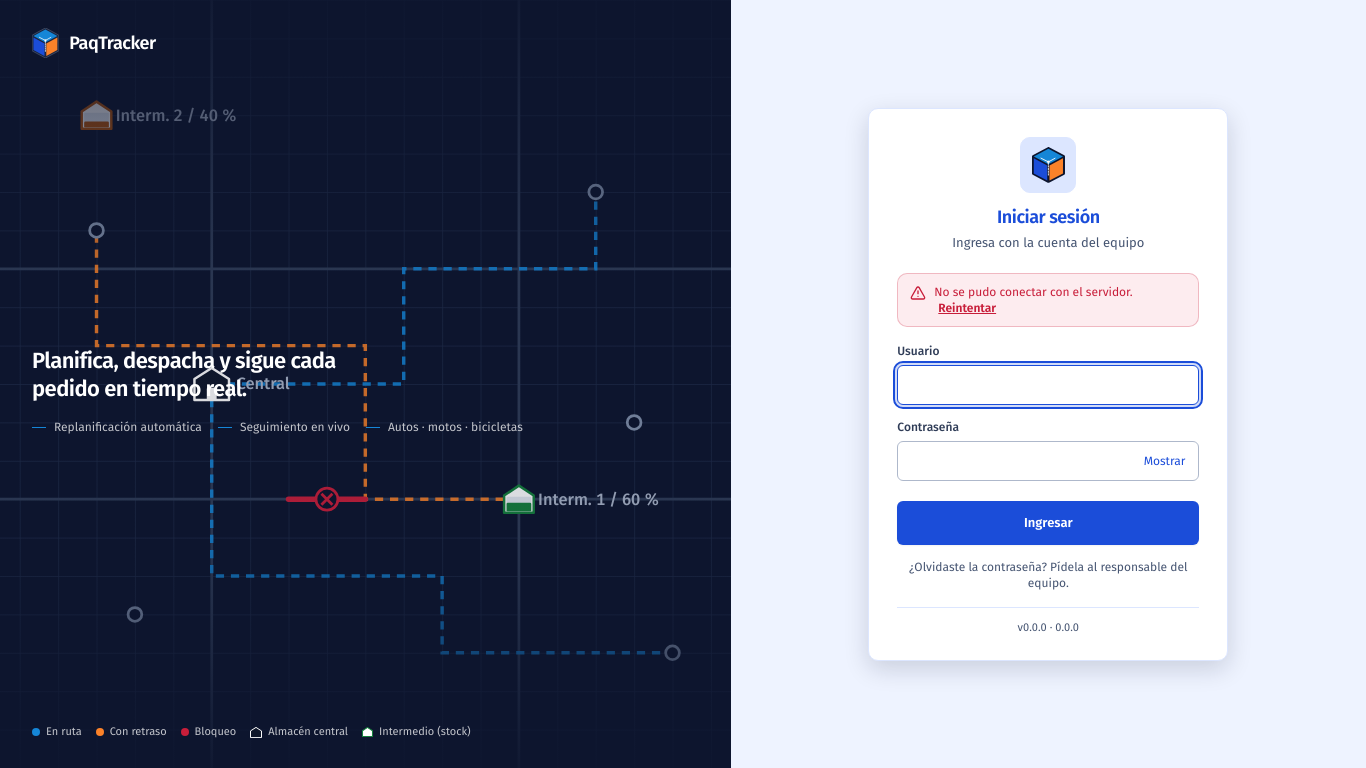
Test: PuertaSesion › sin conexión con la API muestra el login con el aviso y permite reintentar
The width and height of the screenshot is (1366, 768).
Expected: the text "No se pudo conectar con el servidor. Reintentar" is shown, top-left (934, 284), bottom-right (1133, 316)
Click the button "Reintentar" at (967, 308), box top-left (938, 300), bottom-right (996, 316)
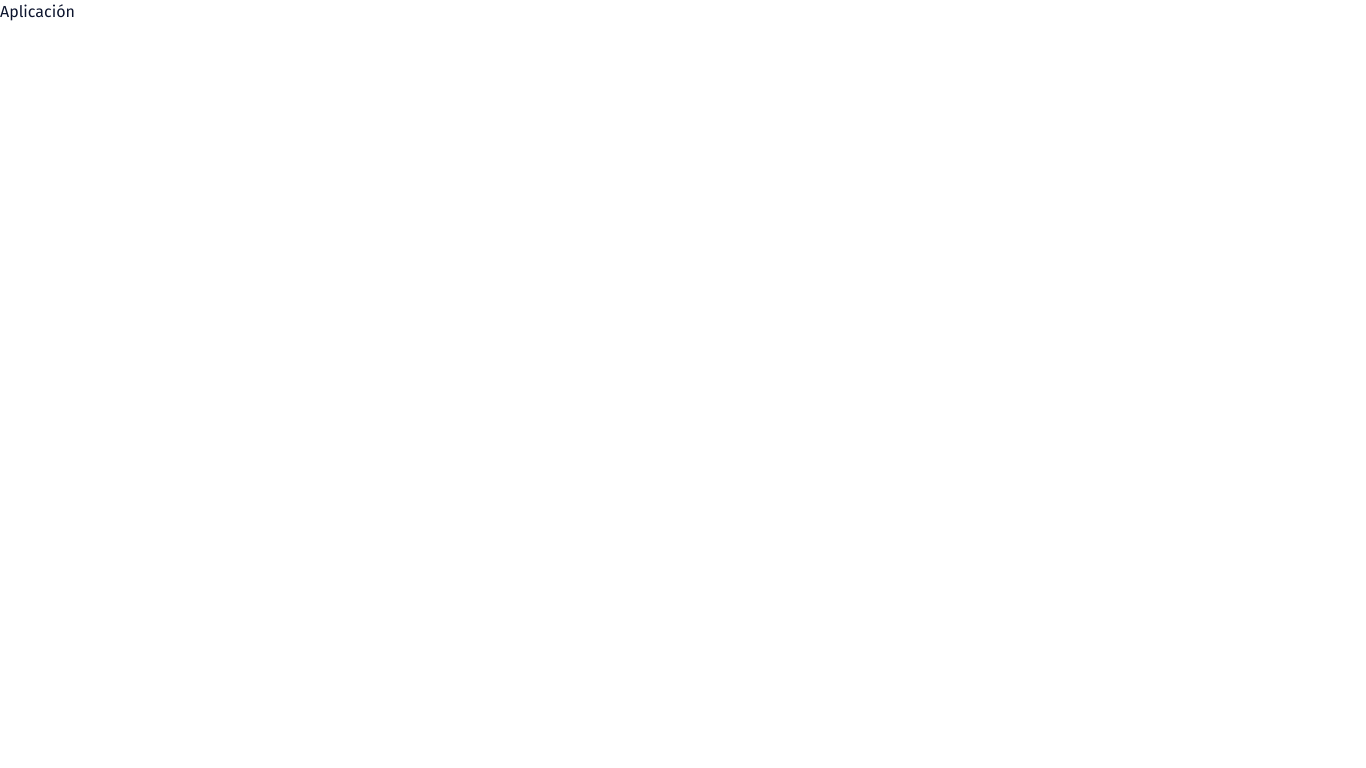
Now the text "Aplicación" is shown, box top-left (0, 2), bottom-right (75, 21)
